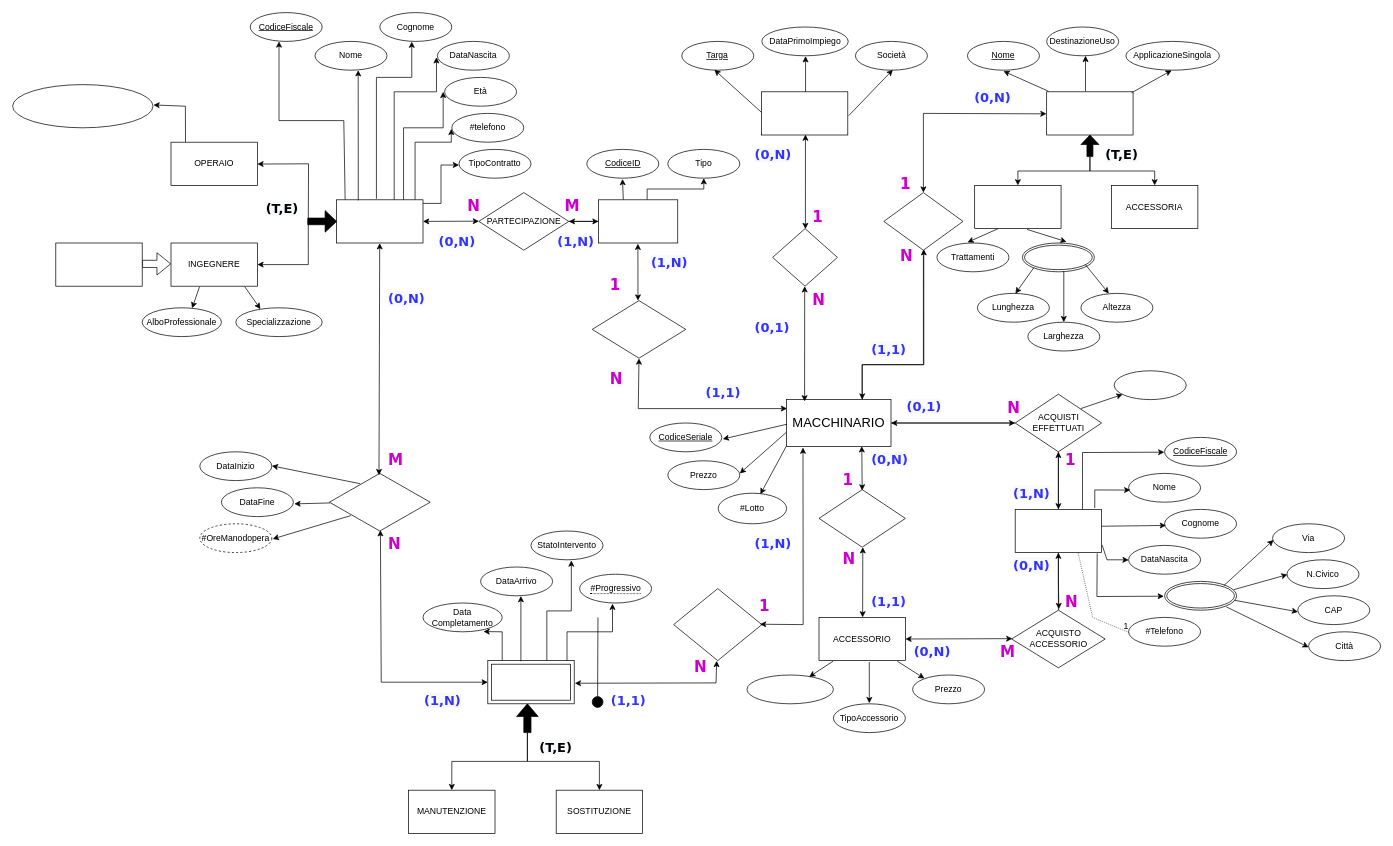
Some shapes in this 1393 by 846 pixel diagram are drawn without their labels. Each missing label, with the centre of its shape:
"#Acquisti" belongs at point (1149, 385).
"#OreLavorativeUltimoAnnoSolare" belongs at point (82, 106).
"APPARTENENZA" belongs at point (923, 221).
"ASSOCIAZIONE" belongs at point (861, 518).
"BASE" belongs at point (1017, 207).
"CATEGORIA" belongs at point (1089, 113).
"CLIENTE" belongs at point (1058, 531).
"CodiceAccessorio" belongs at point (789, 689).
"COINVOLGIMENTO" belongs at point (379, 502).
"CONSEGNA" belongs at point (804, 257).
"CORRIERE" belongs at point (804, 113).
"Dimensioni" belongs at point (1058, 257).
"DIPENDENTE" belongs at point (379, 221).
"Indirizzo" belongs at point (1200, 595).
"INTERVENTO" belongs at point (530, 682).
"INTERVENTO MACCHINARIO" belongs at point (717, 624).
"PROGETTAZIONE" belongs at point (638, 329).
"PROGETTO" belongs at point (638, 221).
"RESPONSABILE" belongs at point (98, 264).
